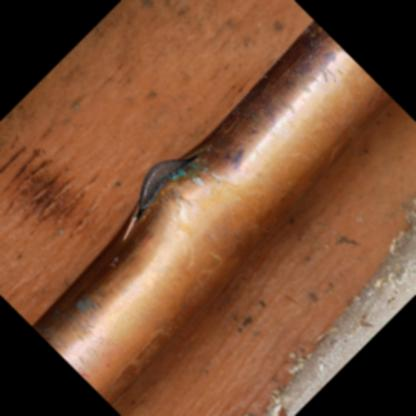burst: (122, 152, 225, 221)
